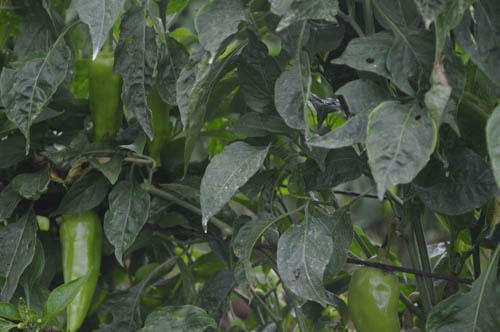ChiliPepper: (56, 220, 102, 332), (342, 264, 406, 332), (85, 52, 120, 144), (136, 90, 171, 165)
